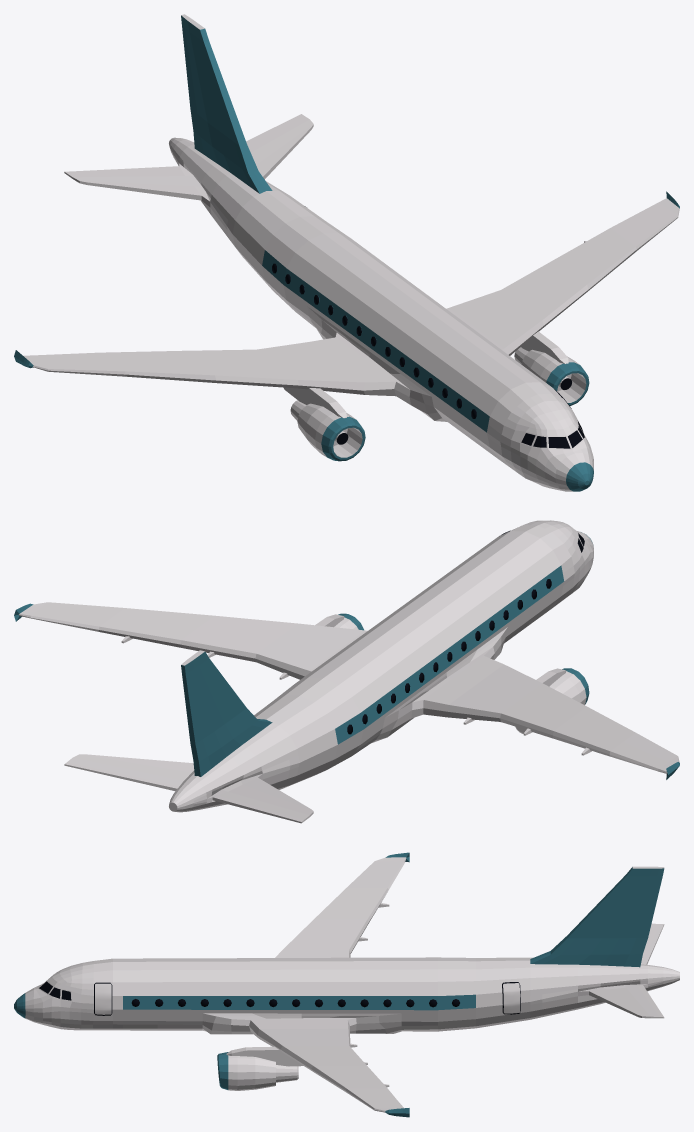
File: aircraft.obj
3 views of the same model, one above another, from view 1: azimuth 30°, elevation 25°; view 2: azimuth 150°, elevation 25°; view 3: azimuth 270°, elevation 25° (orthographic). The views are drawn at different scales.
Visible parts, largest first — view 1: AirbussA320; view 2: AirbussA320; view 3: AirbussA320.
Boxes of the visible parts, x1,y1,x2,y2 form: AirbussA320: (14,14,679,491); AirbussA320: (14,520,679,823); AirbussA320: (14,852,679,1117).
Bounding box in the file's own units: 34.28 × 11.05 × 37.57.
